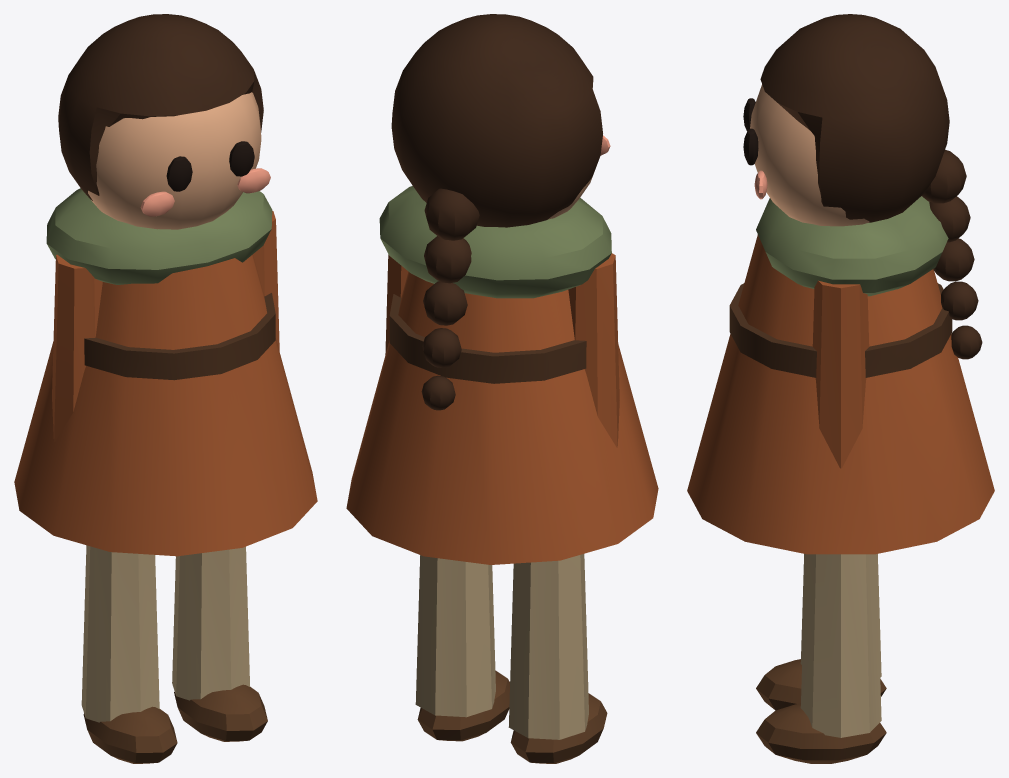
File: neska.glb
The picture shows the model from 3 angles, left to right: view 1: azimuth 30°, elevation 25°; view 2: azimuth 150°, elevation 25°; view 3: azimuth 270°, elevation 25°; orthographic projection. The views are drawn at different scales.
Visible parts, largest first — view 1: torso_mesh, head_mesh, leg_mesh_R, leg_mesh_L, arm_mesh_R, arm_mesh_L; view 2: torso_mesh, head_mesh, leg_mesh_R, leg_mesh_L, arm_mesh_R, arm_mesh_L; view 3: torso_mesh, head_mesh, leg_mesh_L, arm_mesh_L, leg_mesh_R.
Part boxes in pixels (x1,y1,x2,y2): torso_mesh: (14, 188, 317, 556); head_mesh: (58, 14, 270, 229); leg_mesh_R: (81, 545, 177, 763); leg_mesh_L: (172, 546, 267, 741); arm_mesh_R: (52, 254, 102, 442); arm_mesh_L: (253, 211, 279, 350); torso_mesh: (346, 186, 658, 564); head_mesh: (391, 14, 610, 410); leg_mesh_R: (508, 554, 607, 763); leg_mesh_L: (415, 555, 509, 741); arm_mesh_R: (568, 253, 619, 447); arm_mesh_L: (385, 254, 408, 354); torso_mesh: (687, 196, 994, 554); head_mesh: (743, 14, 982, 359); leg_mesh_L: (756, 554, 886, 763); arm_mesh_L: (812, 280, 869, 468); leg_mesh_R: (756, 554, 886, 710).
Size of the model in its own units: 0.4582 by 1.2 by 0.47.
